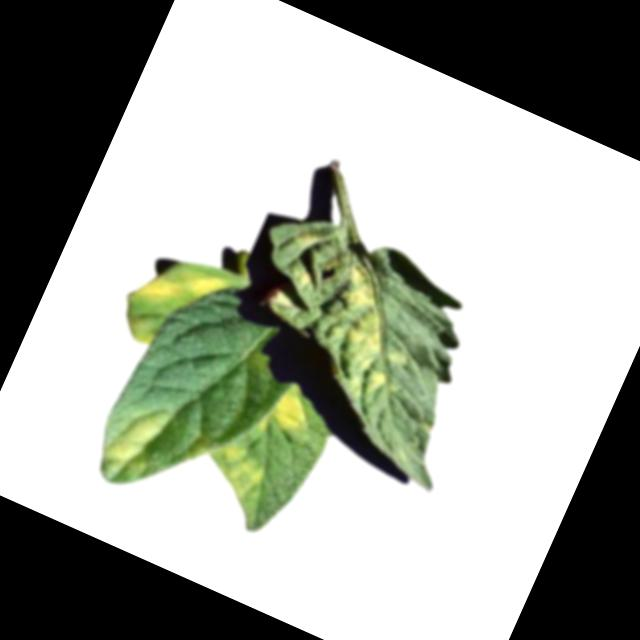Leaf_Mold: (297, 252, 437, 407), (126, 242, 232, 334), (184, 432, 283, 530), (89, 392, 173, 494), (250, 377, 321, 453)
